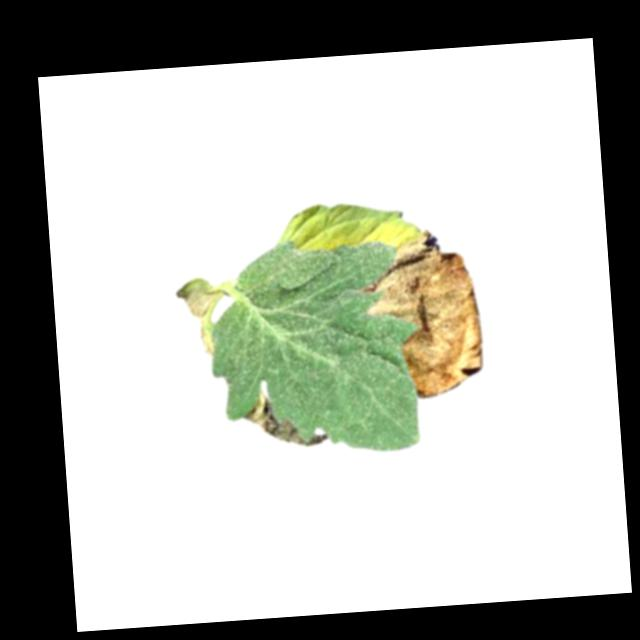Late_blight: (362, 224, 487, 403), (240, 383, 326, 454), (173, 275, 227, 360)
healthy: (201, 232, 426, 465)
